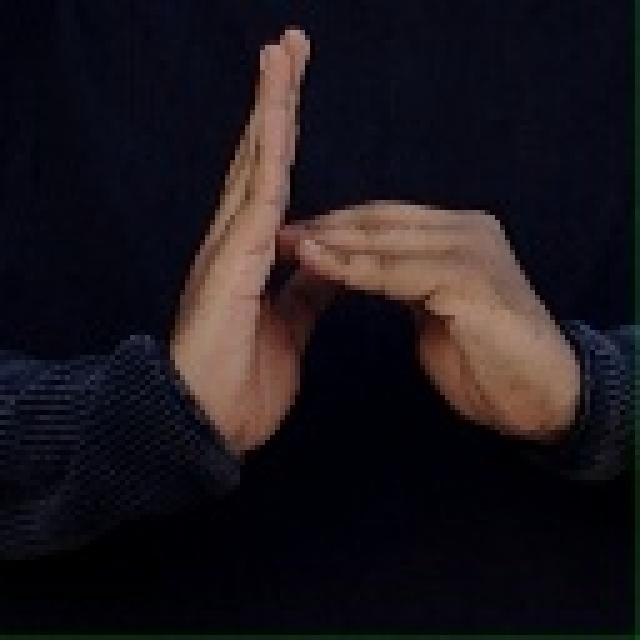Alphabet-Z: (156, 25, 602, 488)
